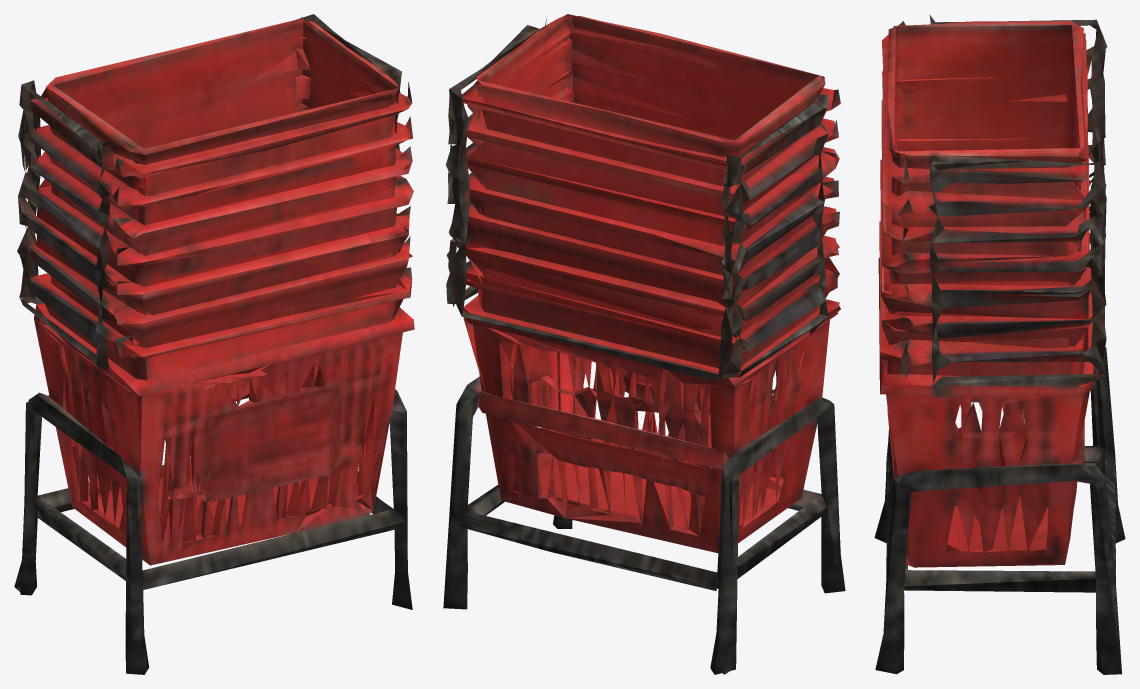
File: p7-basket-stack.glb
3 renders of one model, left to right at view 1: azimuth 30°, elevation 25°; view 2: azimuth 150°, elevation 25°; view 3: azimuth 270°, elevation 25°, orthographic.
Parts seen in each view (by area): view 1: p7-basket-stack; view 2: p7-basket-stack; view 3: p7-basket-stack.
Boxes of the visible parts, x1=… form: p7-basket-stack: x1=14, y1=14, x2=414, y2=674; p7-basket-stack: x1=443, y1=14, x2=845, y2=674; p7-basket-stack: x1=874, y1=14, x2=1125, y2=674.
Bounding box in the file's own units: 0.4928 × 0.8 × 0.35.
1 material, 1 textured.
